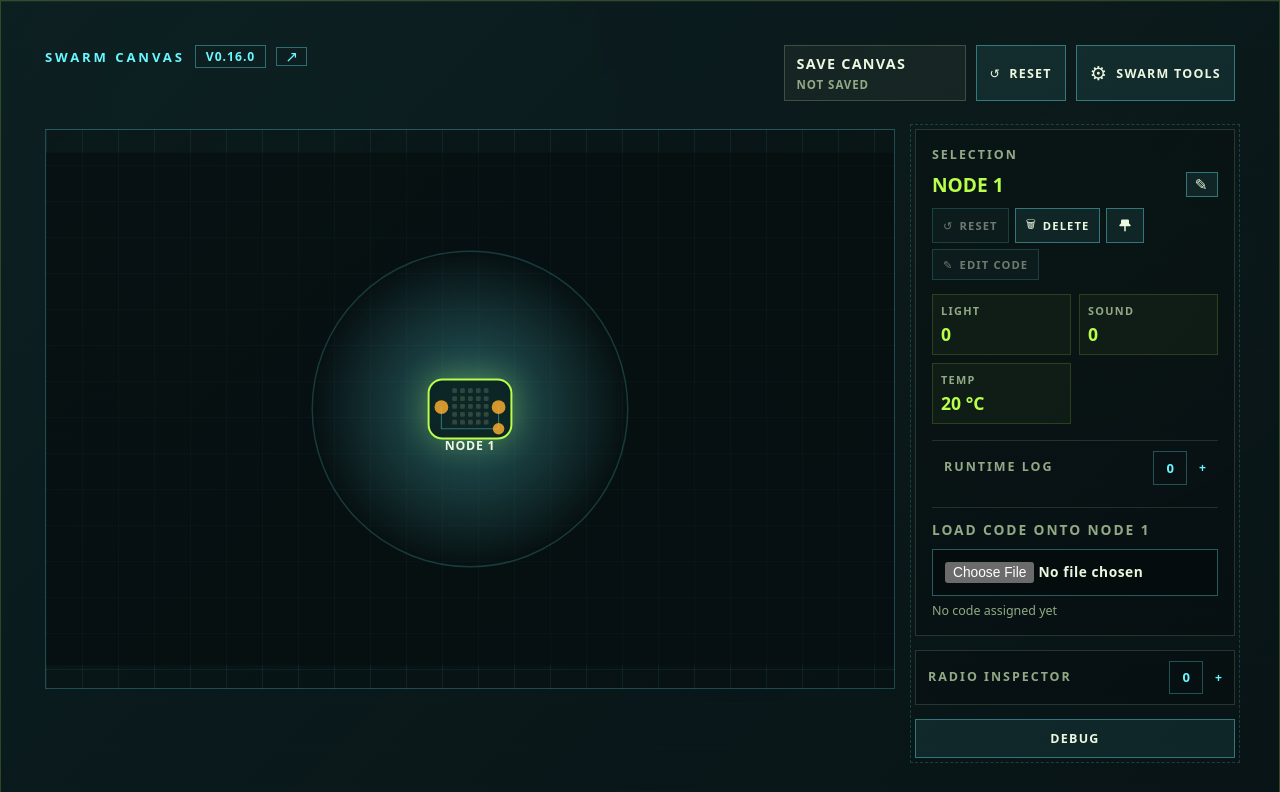
Scenario: SwarmCanvasPanel › shows concise property lock copy for locked light sources
The width and height of the screenshot is (1280, 792).
Click the button "⚙ Swarm tools". click: (1155, 73)
box: [1076,45,1235,101]
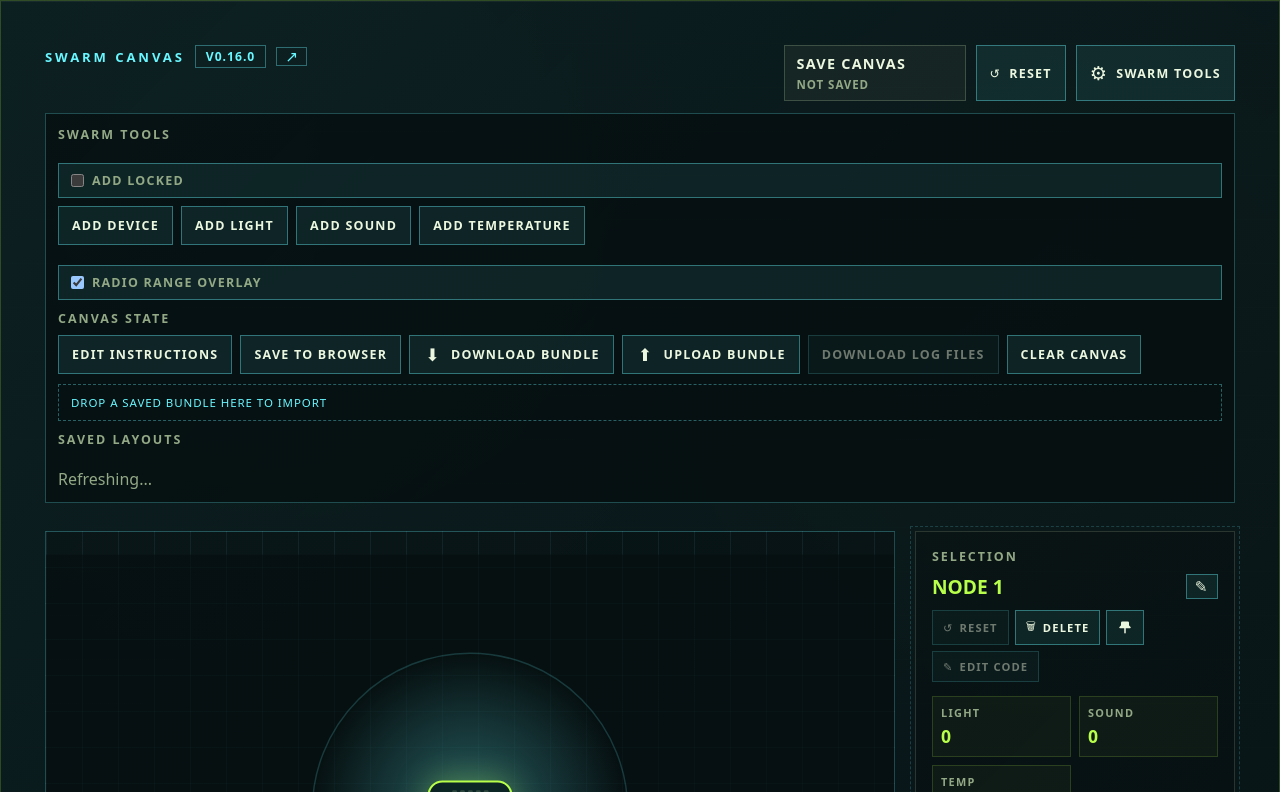
Click the checkbox labelled "Add locked". click: (78, 180)
box: [71,174,84,187]
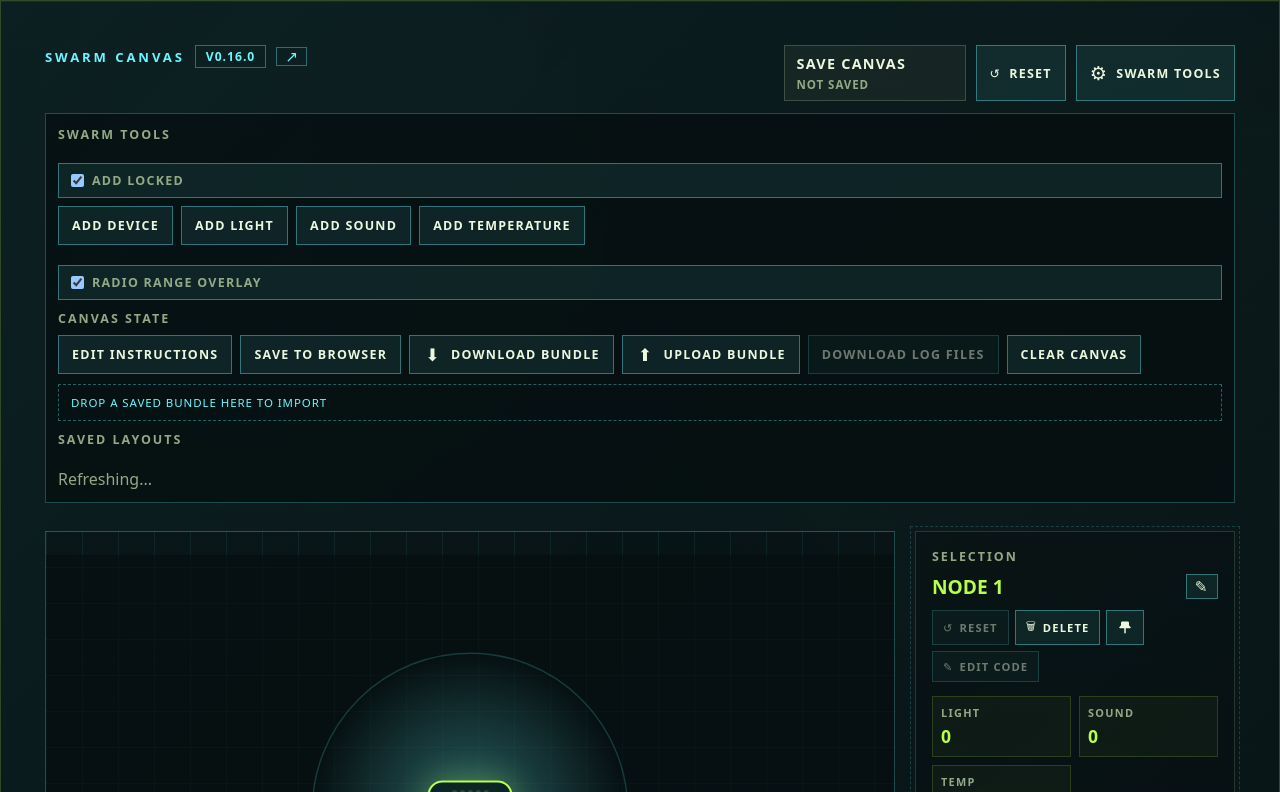
Click the button "Add light". click: (234, 226)
box: [181,206,288,245]
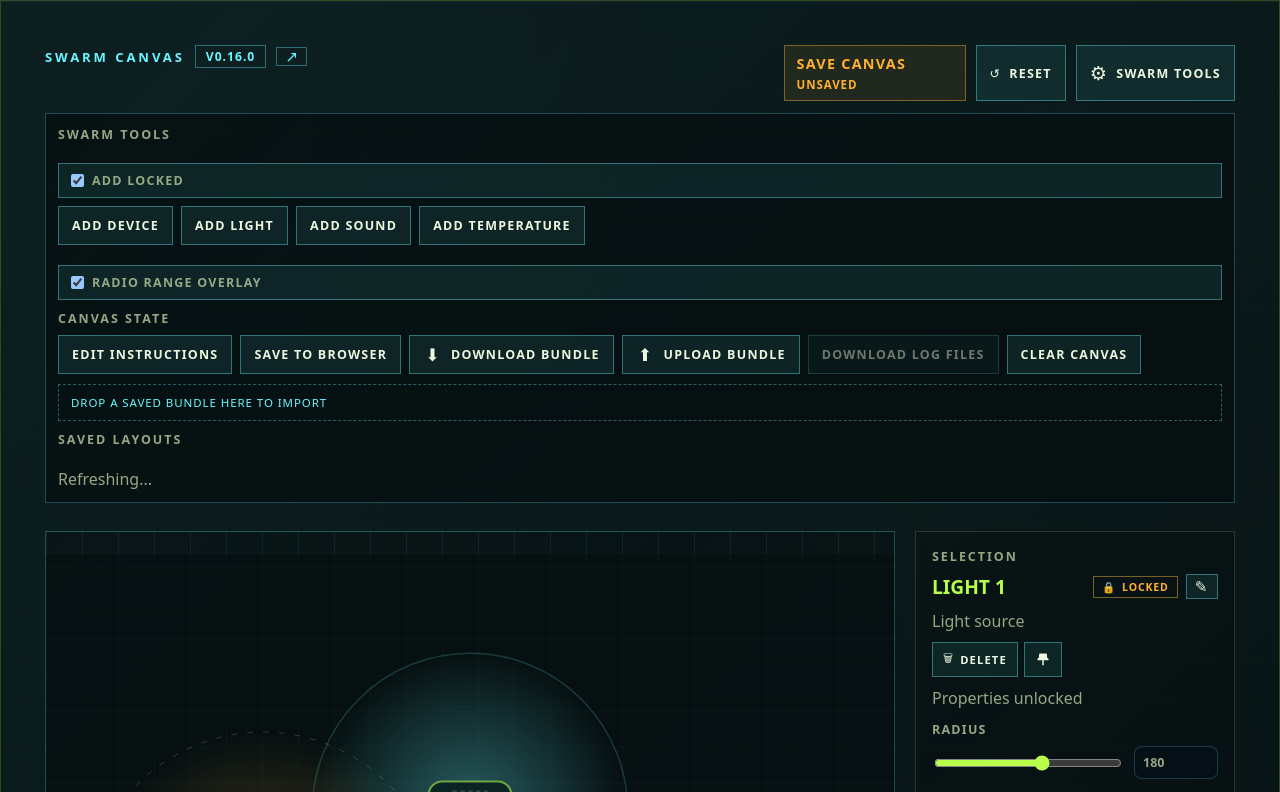
Click the checkbox labelled "Add locked". click: (78, 180)
box: [71,174,84,187]
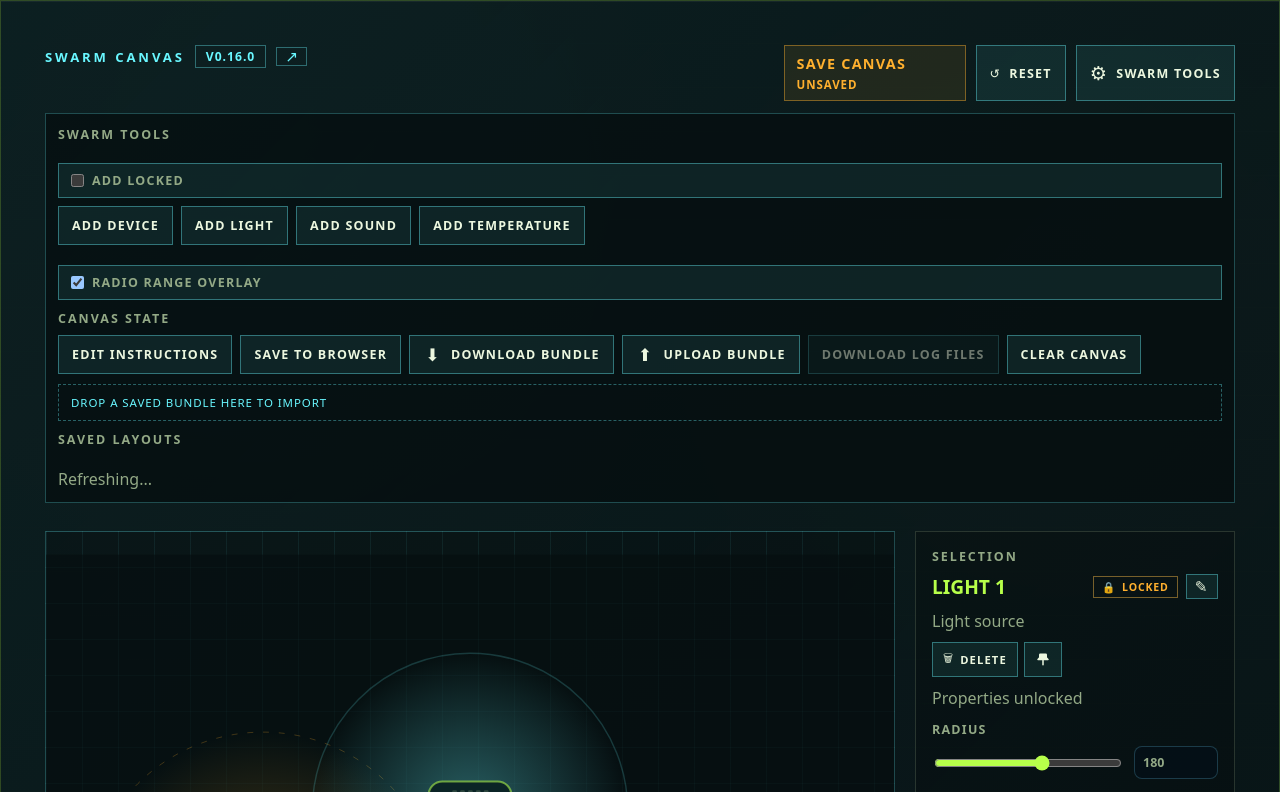
Check: the text "Locked" is shown, box [1122,580,1169,594]
Check: the text "Properties unlocked" is shown, box [932,687,1082,709]
Check: the slider labelled "Radius" is enabled, box [934,755,1122,771]
Click the button named "Pin node position permanently". click: (1043, 660)
box: [1024,642,1062,677]
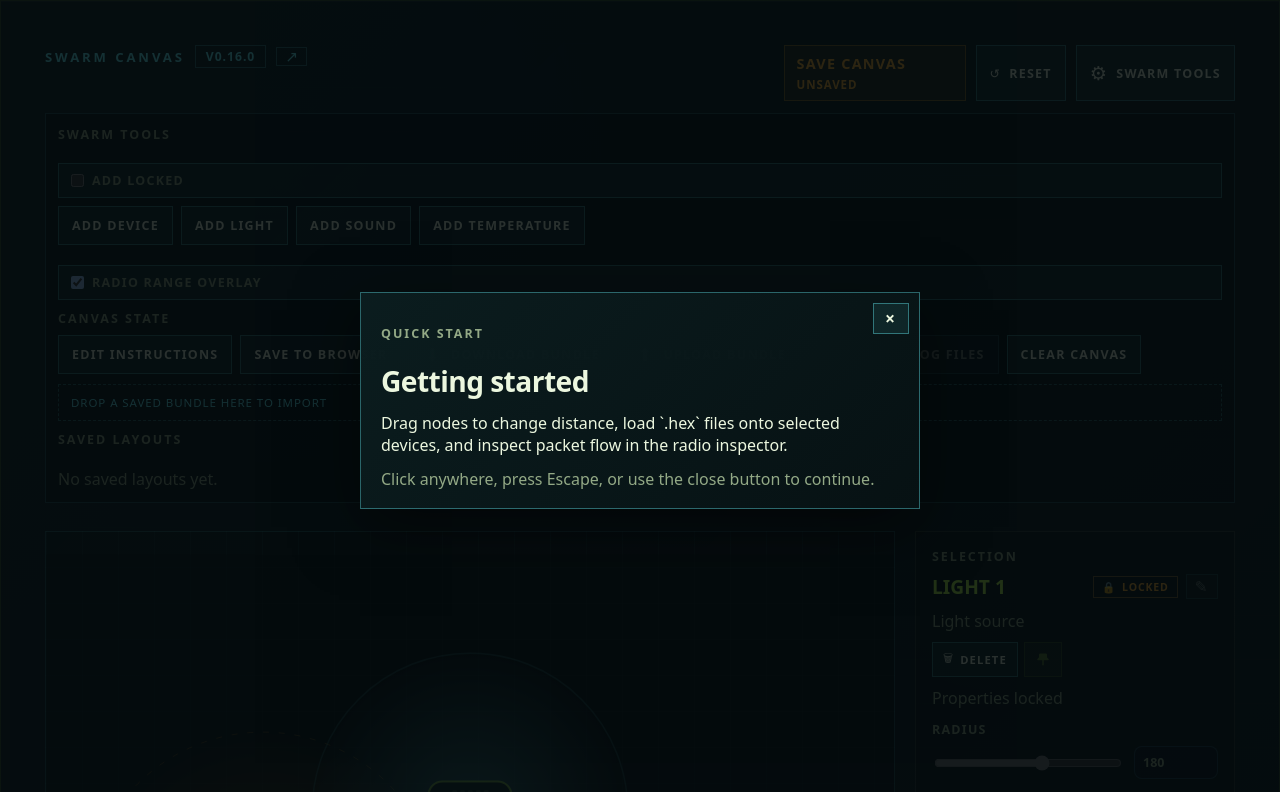
Check: the text "Properties locked" is shown, box [932,687,1063,709]
